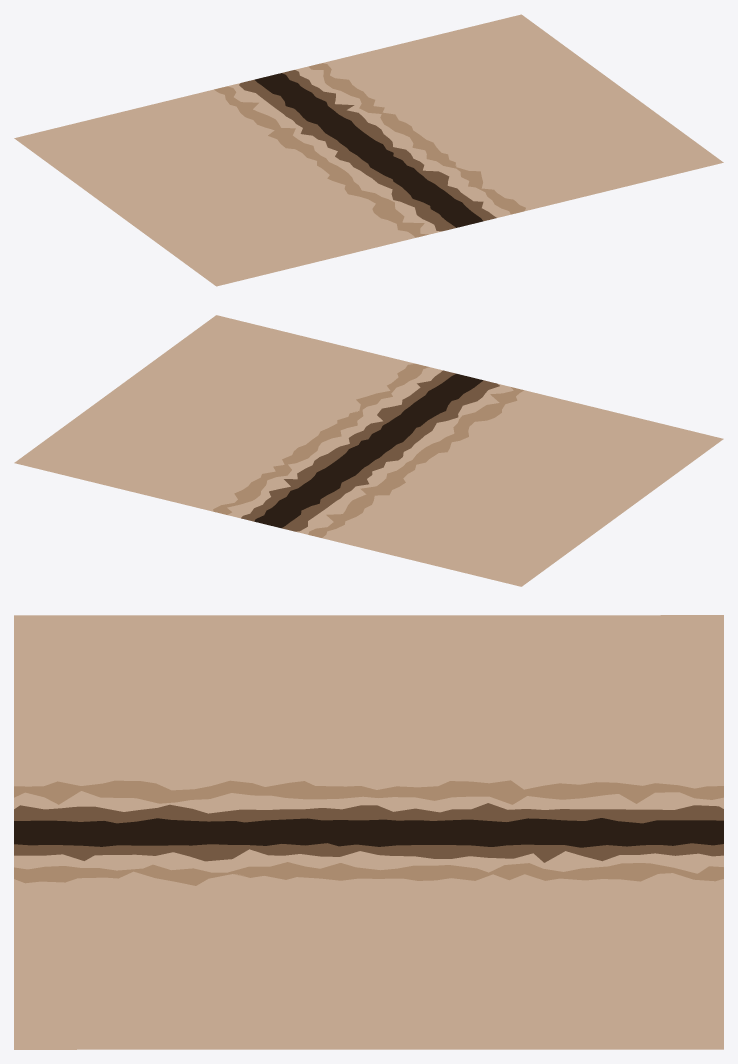
File: ground.fbx
3 views of the same model, one above another, from view 1: azimuth 30°, elevation 25°; view 2: azimuth 150°, elevation 25°; view 3: azimuth 270°, elevation 25° (orthographic). The views are drawn at different scales.
Parts seen in each view (by area): view 1: ground; view 2: ground; view 3: ground.
Boxes of the visible parts, left/top/right/bottom form: ground: left=14, top=14, right=723, bottom=286; ground: left=14, top=315, right=723, bottom=586; ground: left=14, top=615, right=723, bottom=1049.
Bounding box in the file's own units: 15204 × 3.62 × 10500.
Materials: 1 (1 with a texture image).
